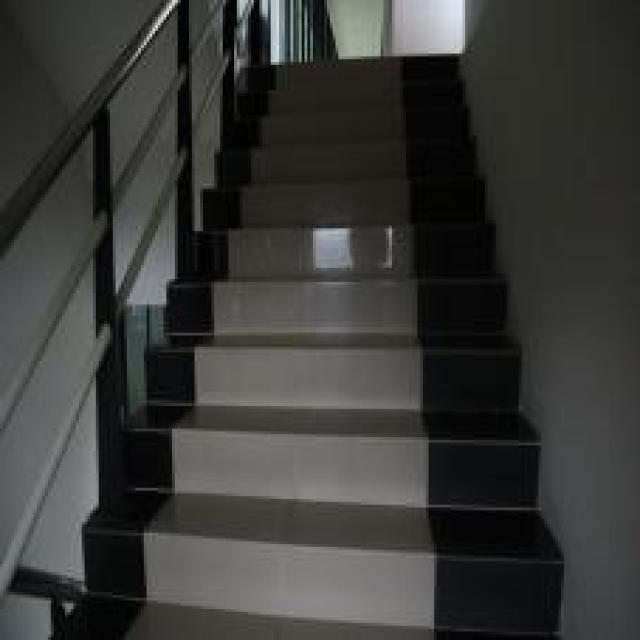upstair: (241, 55, 486, 638)
